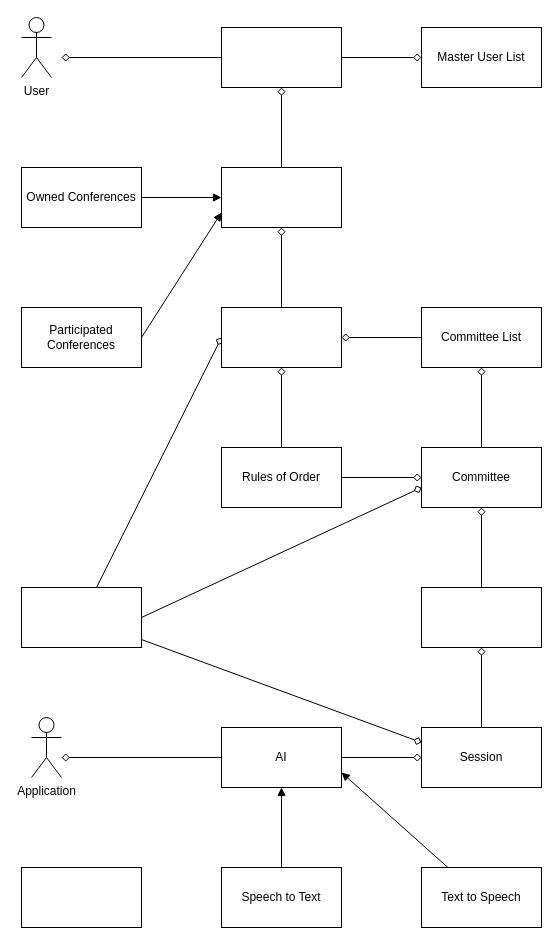
This 559x945 diagram has some shape labels left out. The centre of each missing label's shape, as x and y in pixels:
"Audit Log" goes at (x=81, y=617).
"Conference" goes at (x=281, y=337).
"Conference List" goes at (x=281, y=197).
"Session List" goes at (x=481, y=617).
"User Account" goes at (x=281, y=57).
"Web Server" goes at (x=81, y=897).
